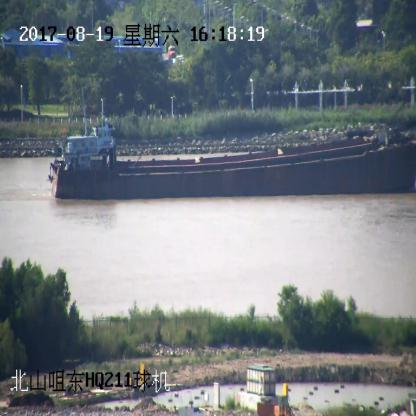Bulk Carrier: (49, 120, 416, 200)
